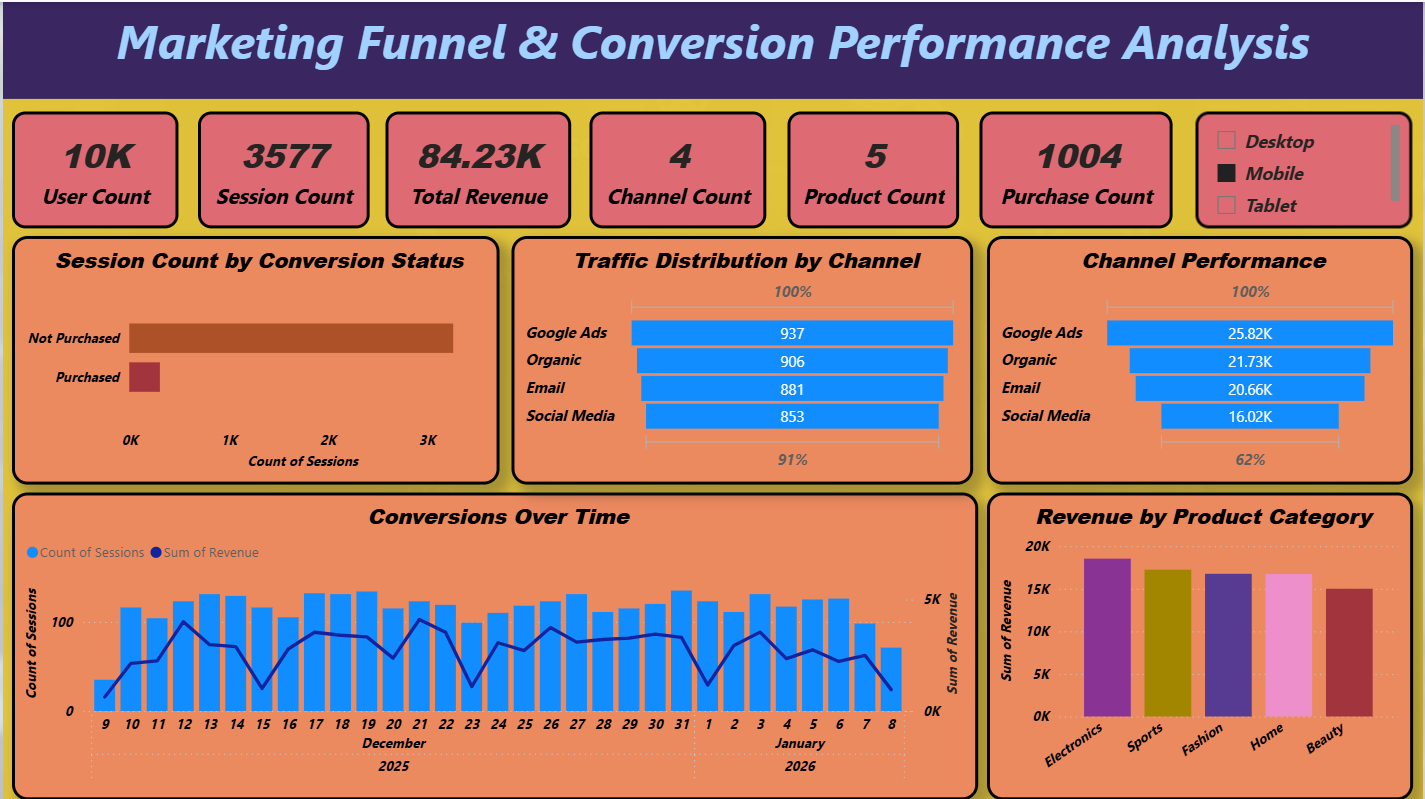

Layout of this report page (visuals, bound fields, positions):
{"tool":"powerbi","page":{"name":"Page 1","canvas":[1280,720],"ordinal":0},"visuals":[{"type":"card","fields":{"Values":["Table.User Count"]},"box":[7.8,98.2,149.8,105],"z":0},{"type":"card","fields":{"Values":["Table.Session Count"]},"box":[176,98.2,154.7,105],"z":1000},{"type":"card","fields":{"Values":["Table.Channel Count"]},"box":[529.1,98.2,159.5,105],"z":2000},{"type":"card","fields":{"Values":["Table.Total Revenue"]},"box":[345.3,98.2,167.3,105],"z":3000},{"type":"card","fields":{"Values":["Table.Purchase Count"]},"box":[880.2,98.2,174.1,105],"z":4000},{"type":"card","fields":{"Values":["Table.Product Count"]},"box":[707.1,98.2,154.7,105],"z":5000},{"type":"textbox","box":[0,0,1280,87.5],"z":6000},{"type":"barChart","title":"Session Count by Conversion Status","fields":{"Category":["Session_Fact.Purchase Status"],"Y":["CountNonNull(Session_Fact.Session  ID)"]},"box":[7.8,211.1,439.6,223.7],"z":7000},{"type":"lineClusteredColumnComboChart","title":"Conversions Over Time","fields":{"Y":["CountNonNull(Session_Fact.Session  ID)"],"Y2":["Sum(Session_Fact.Revenue)"],"Category":["Session_Fact.Event Date.Variation.Date Hierarchy.Year","Session_Fact.Event Date.Variation.Date Hierarchy.Month","Session_Fact.Event Date.Variation.Date Hierarchy.Day"]},"box":[7.8,442.6,870.5,277.2],"z":8000},{"type":"funnel","title":"Traffic Distribution by Channel","fields":{"Category":["Session_Fact.Channel"],"Y":["CountNonNull(Session_Fact.Session  ID)"]},"box":[458.1,211.1,416.3,223.7],"z":9000},{"type":"funnel","title":"Channel Performance","fields":{"Y":["Sum(Session_Fact.Revenue)"],"Category":["Session_Fact.Channel"]},"box":[886.1,211.1,384.2,223.7],"z":10000},{"type":"columnChart","title":"Revenue by Product Category","fields":{"Category":["User_Dim.Product Category"],"Y":["Sum(Session_Fact.Revenue)"]},"box":[886.1,442.6,384.2,277.2],"z":11000},{"type":"slicer","fields":{"Values":["Session_Fact.Device"]},"box":[1074.8,98.2,195.5,105],"z":12000}]}

Visuals, with their boxes in screenshot pixels (x1, y1, x2, y2), scaled from the page's 1280x720 canvas onto the 1425x799 screenshot:
card - Table.User Count: [left=9, top=109, right=175, bottom=225]
card - Table.Session Count: [left=196, top=109, right=368, bottom=225]
card - Table.Channel Count: [left=589, top=109, right=767, bottom=225]
card - Table.Total Revenue: [left=384, top=109, right=571, bottom=225]
card - Table.Purchase Count: [left=980, top=109, right=1174, bottom=225]
card - Table.Product Count: [left=787, top=109, right=959, bottom=225]
textbox: [left=0, top=0, right=1424, bottom=97]
"Session Count by Conversion Status" barChart: [left=9, top=234, right=498, bottom=483]
"Conversions Over Time" lineClusteredColumnComboChart: [left=9, top=491, right=978, bottom=798]
"Traffic Distribution by Channel" funnel: [left=510, top=234, right=973, bottom=483]
"Channel Performance" funnel: [left=986, top=234, right=1414, bottom=483]
"Revenue by Product Category" columnChart: [left=986, top=491, right=1414, bottom=798]
slicer - Session_Fact.Device: [left=1197, top=109, right=1414, bottom=225]
